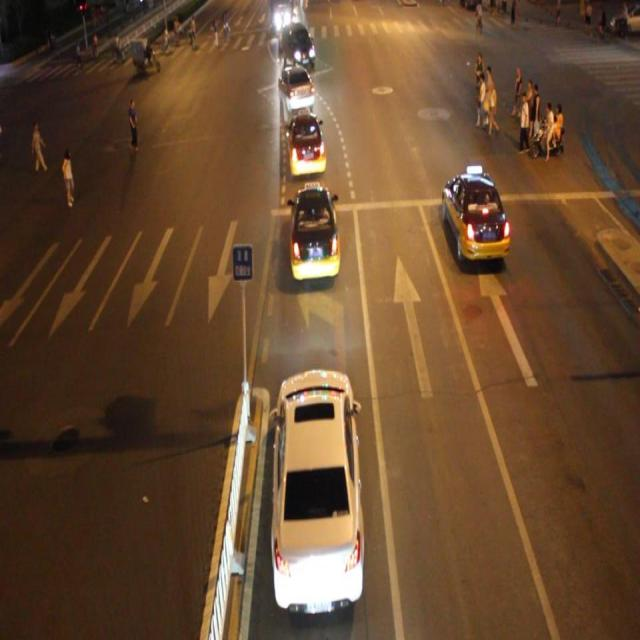car: (270, 368, 362, 609), (441, 170, 508, 260), (288, 185, 340, 280), (286, 112, 326, 177), (278, 20, 314, 68), (278, 67, 314, 113)
